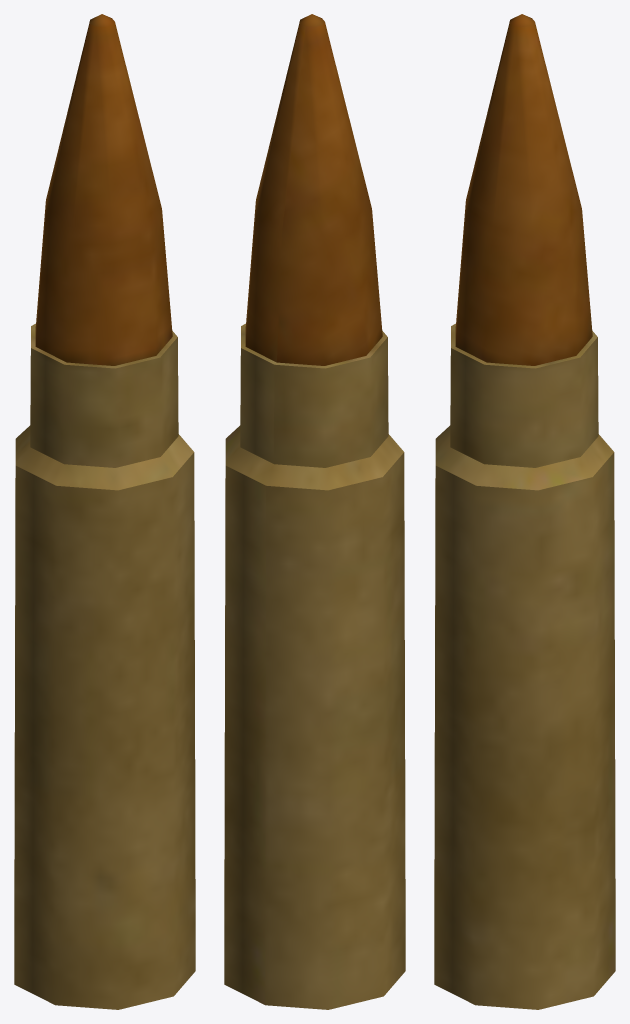
Rendered from SecondaryShell.FBX.
3 renders of one model, left to right at view 1: azimuth 30°, elevation 25°; view 2: azimuth 150°, elevation 25°; view 3: azimuth 270°, elevation 25°, orthographic.
Parts seen in each view (by area): view 1: SecondaryShell; view 2: SecondaryShell; view 3: SecondaryShell.
Part boxes in pixels (x1=…): SecondaryShell: x1=14, y1=14, x2=195, y2=1009; SecondaryShell: x1=224, y1=14, x2=405, y2=1009; SecondaryShell: x1=434, y1=14, x2=615, y2=1009.
Bounding box in the file's own units: 1.51 × 8.68 × 1.49.
